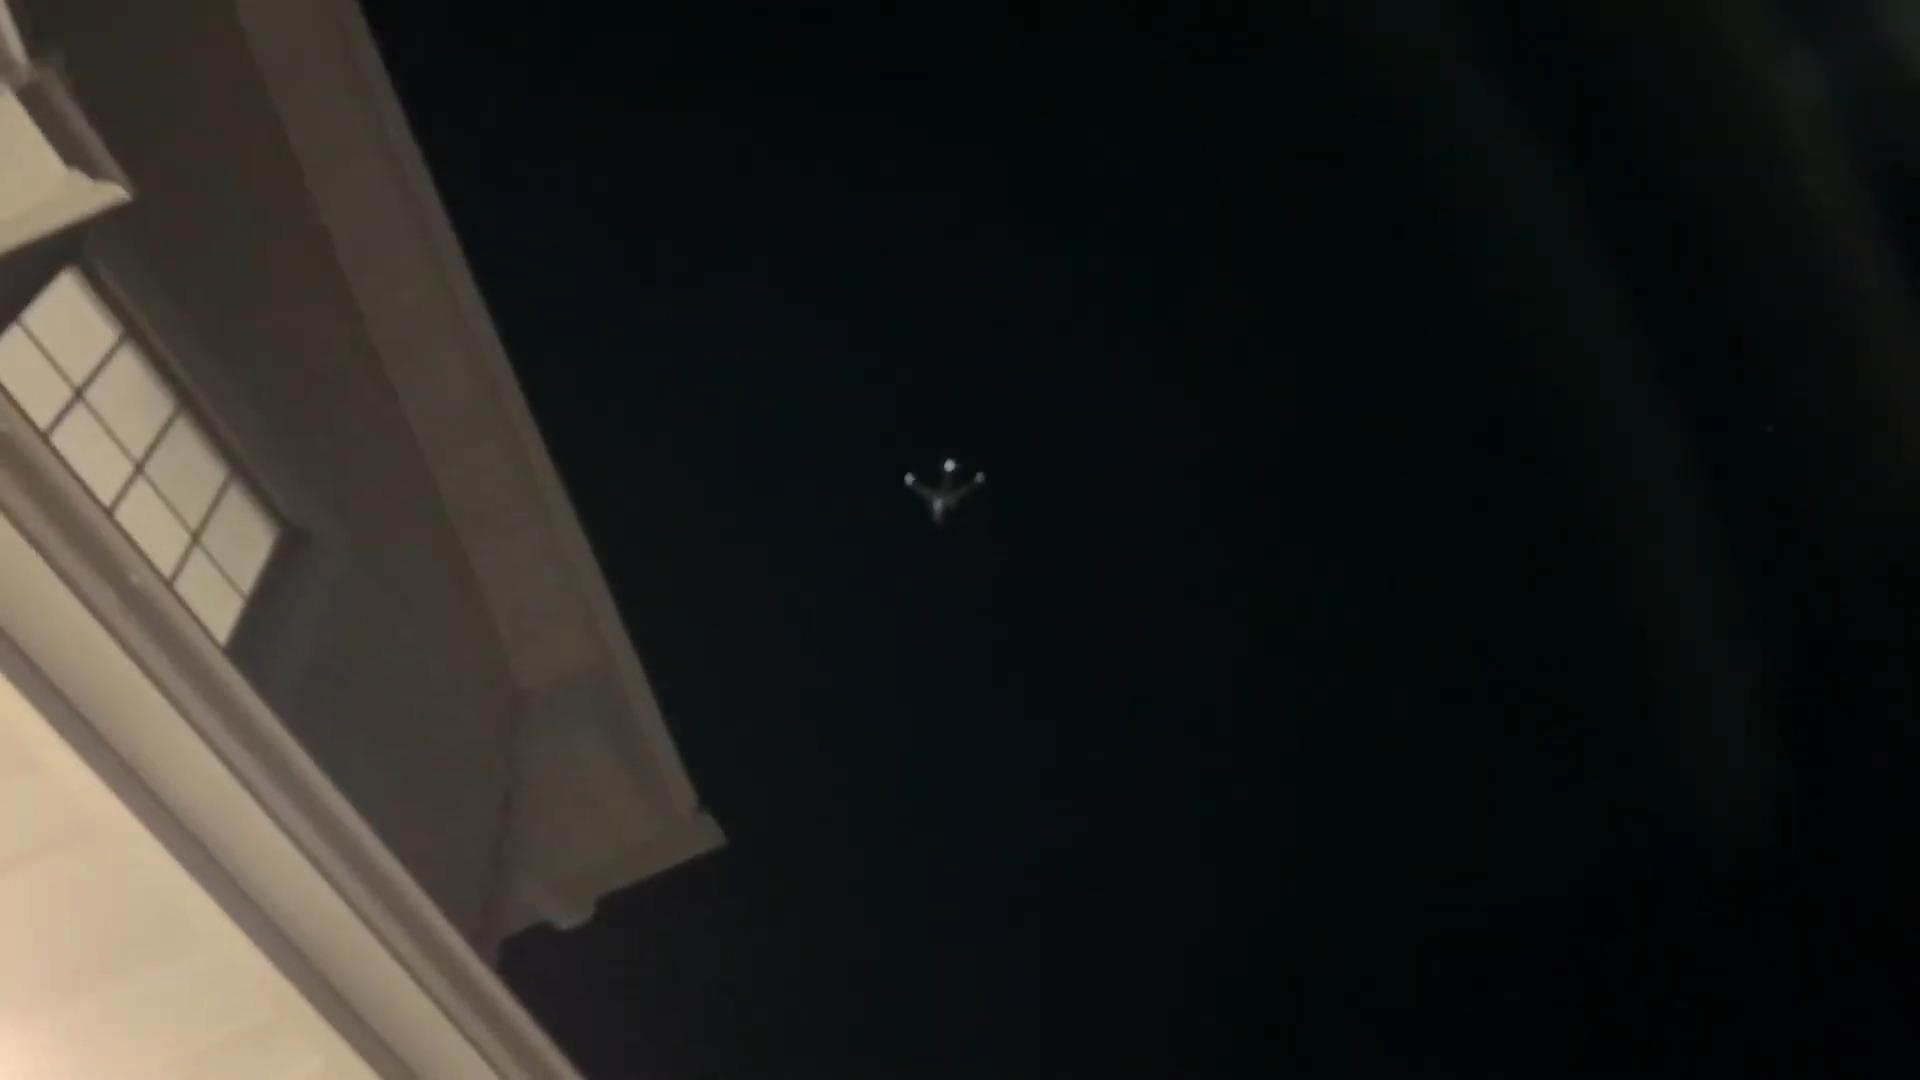Plane: (855, 433, 1029, 547)
